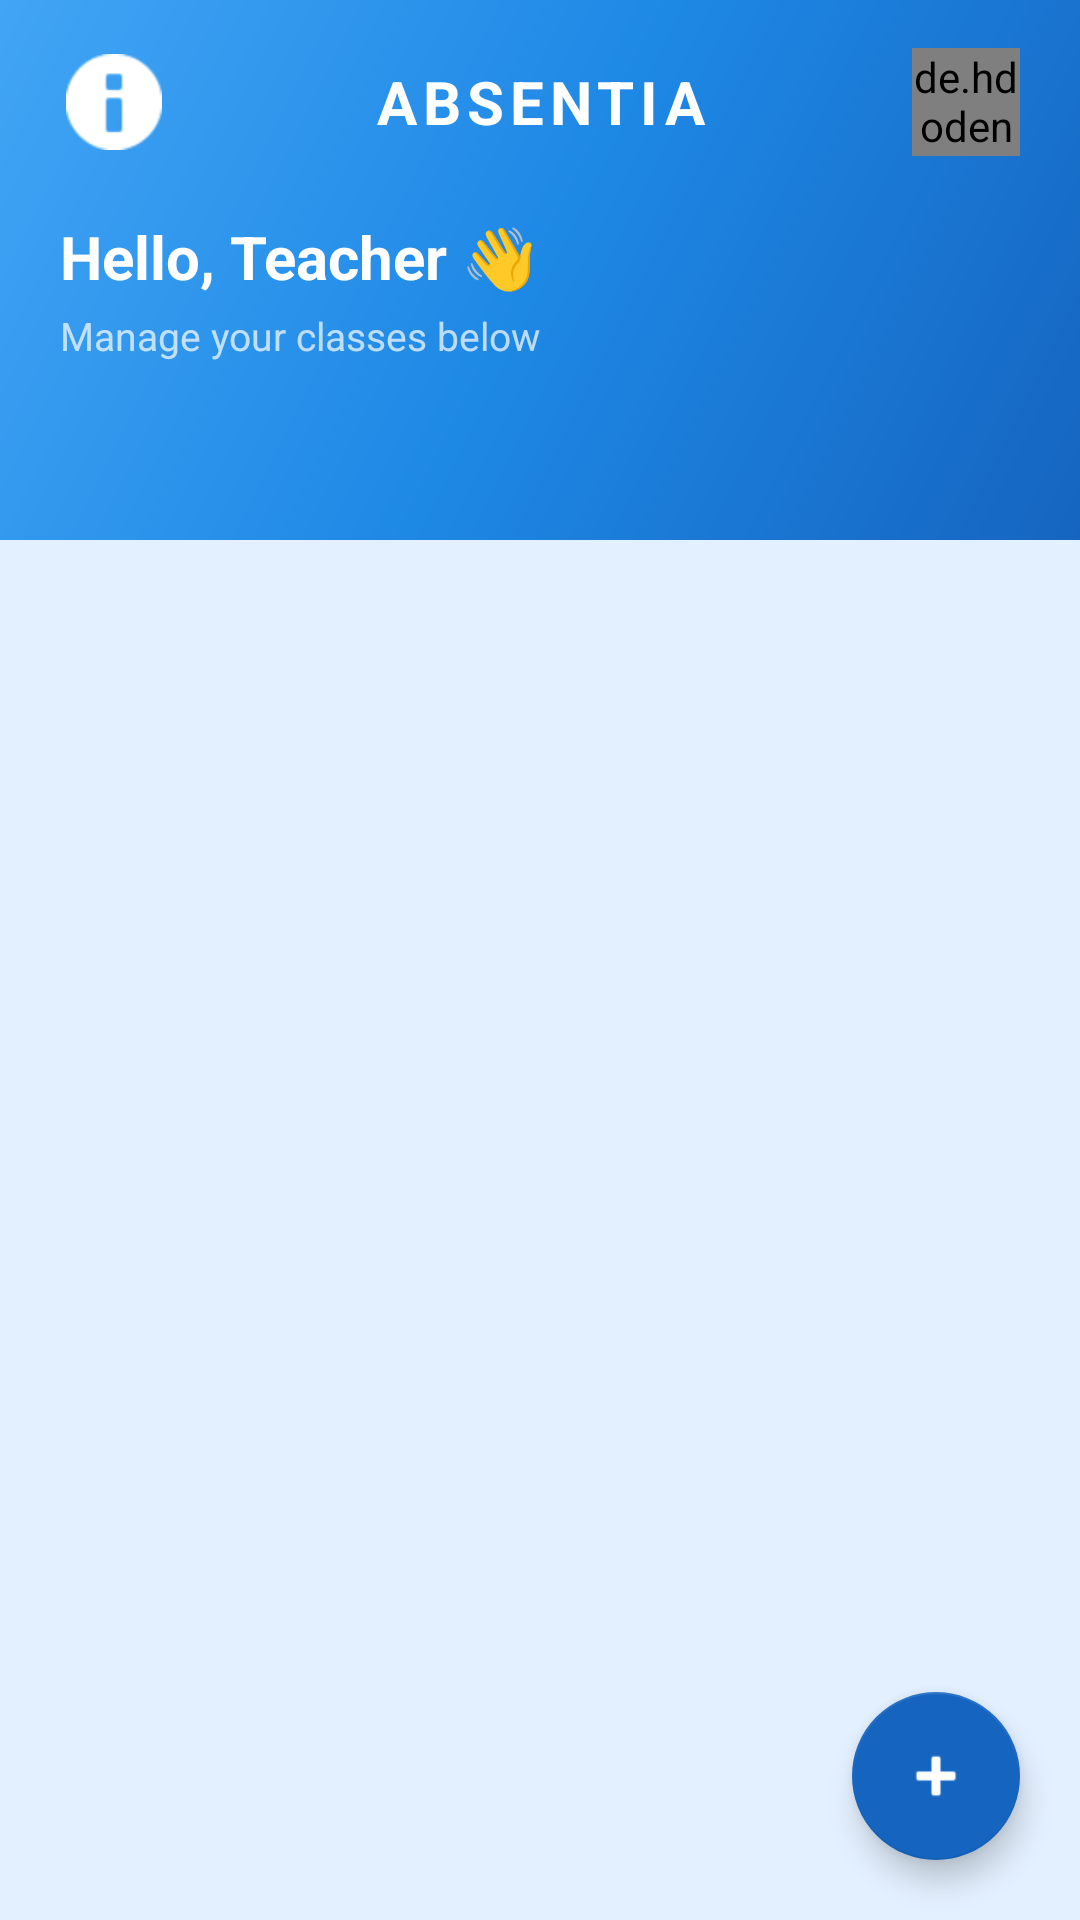

Icon click points for this 1080w x 1920h phone screenshot, format (x,y):
add: (936,1776)
info: (114,102)
